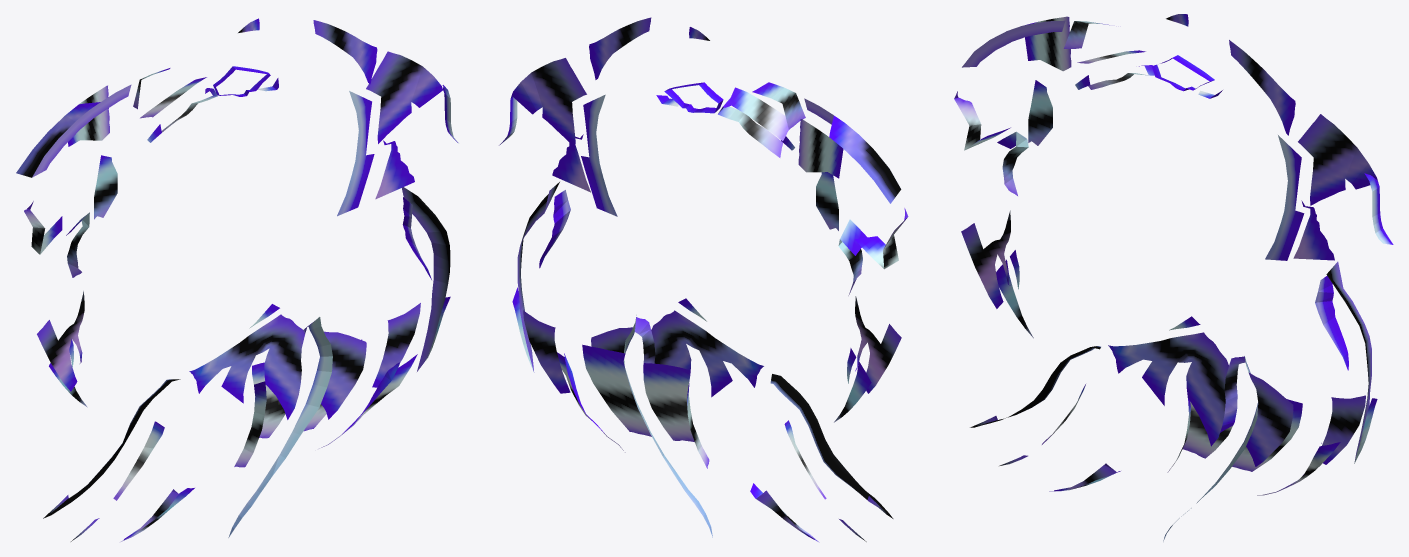
3 views of the same model, side by side, from view 1: azimuth 30°, elevation 25°; view 2: azimuth 150°, elevation 25°; view 3: azimuth 330°, elevation 25° (orthographic). The views are drawn at different scales.
Parts seen in each view (by area): view 1: aaa_transform11; view 2: aaa_transform11; view 3: aaa_transform11.
Part boxes in pixels (bbox=[...]): aaa_transform11: bbox=[16, 18, 458, 541]; aaa_transform11: bbox=[499, 17, 908, 542]; aaa_transform11: bbox=[954, 14, 1393, 541].
Size of the model in its own units: 137 by 157 by 18.44.
